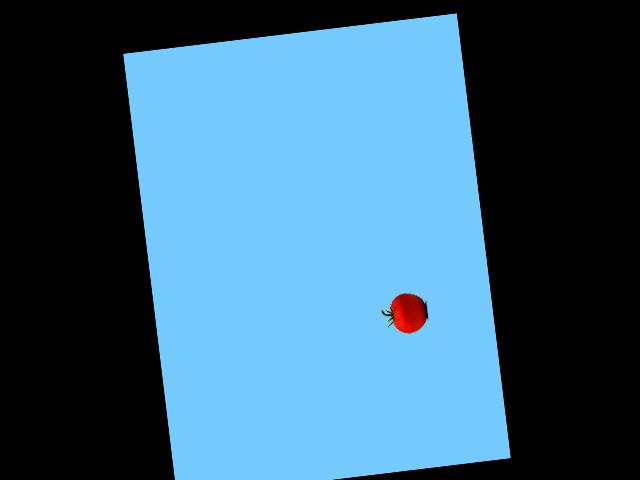tomato: (389, 291, 428, 335)
